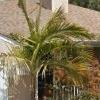Tree: (18, 11, 75, 81)
